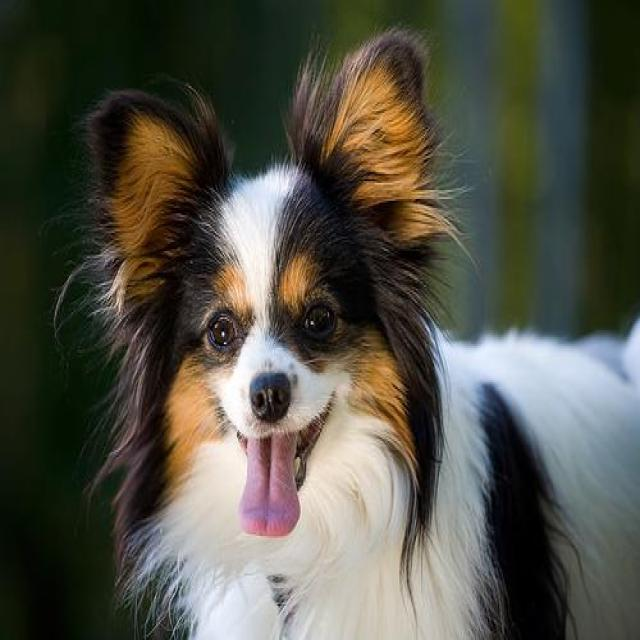papillon: (54, 29, 638, 638)
